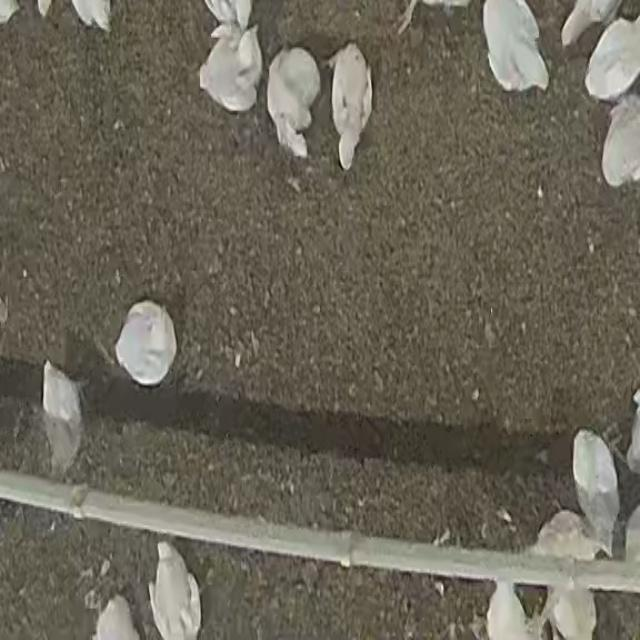chicken: (570, 424, 623, 559), (264, 42, 324, 160), (325, 40, 377, 176), (196, 20, 263, 115), (146, 536, 205, 640), (112, 297, 179, 388), (38, 355, 86, 478)
